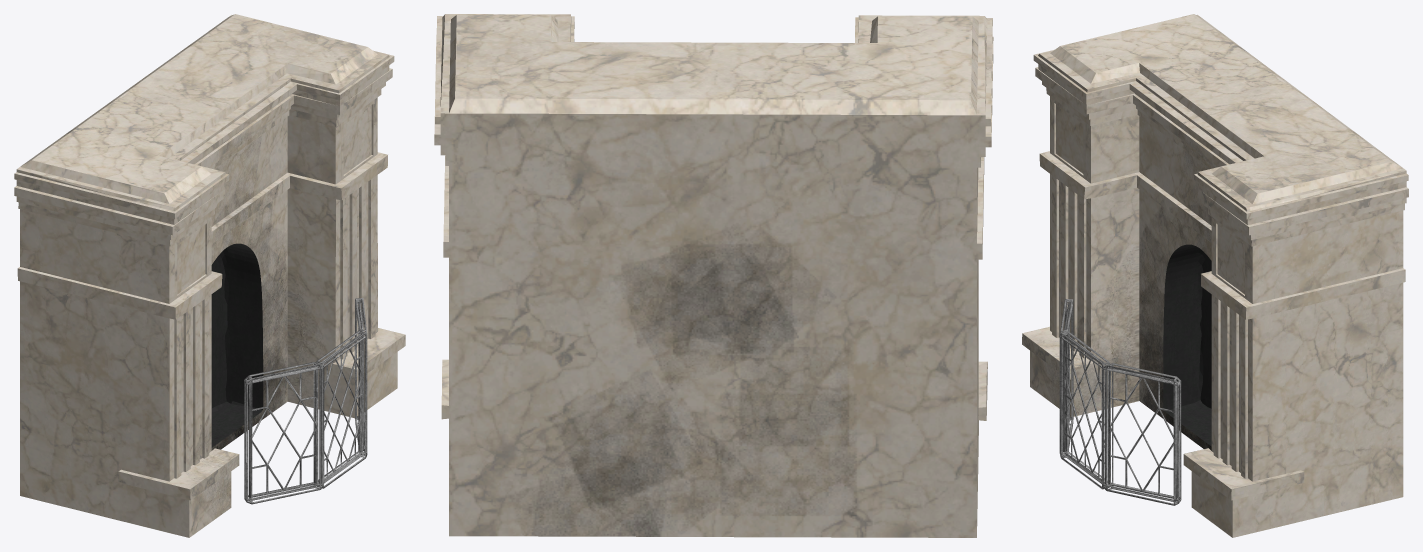
Rendered from kandallo.glb.
The picture shows the model from 3 angles, left to right: view 1: azimuth 30°, elevation 25°; view 2: azimuth 150°, elevation 25°; view 3: azimuth 270°, elevation 25°; orthographic projection. The views are drawn at different scales.
Parts seen in each view (by area): view 1: kandallo, kandalloeloke; view 2: kandallo; view 3: kandallo, kandalloeloke.
Boxes of the visible parts, x1,y1,x2,y2 form: kandallo: [14, 14, 405, 537]; kandalloeloke: [244, 297, 367, 504]; kandallo: [434, 14, 993, 537]; kandallo: [1022, 14, 1408, 537]; kandalloeloke: [1059, 298, 1181, 505].
Size of the model in its own units: 2.09 by 1.64 by 1.71.
Materials: 3 (3 with a texture image).
